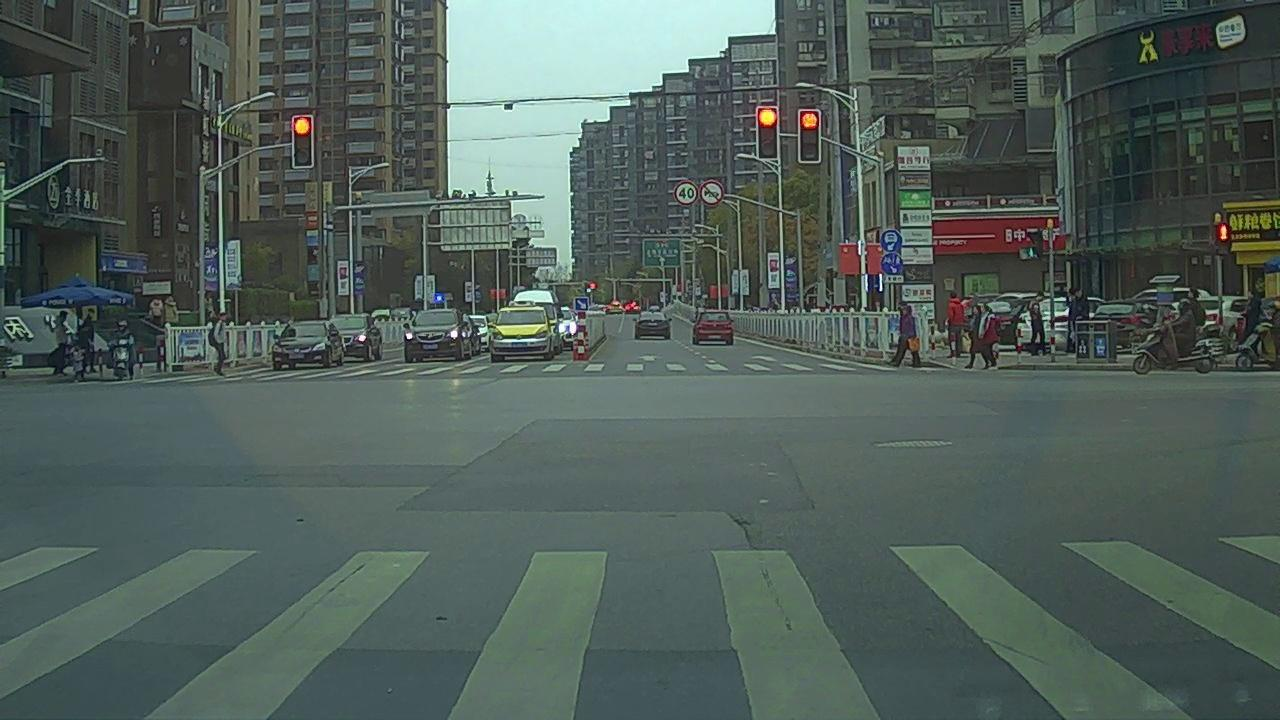traffic_light: (756, 106, 777, 160), (800, 109, 818, 162), (294, 117, 311, 168)
